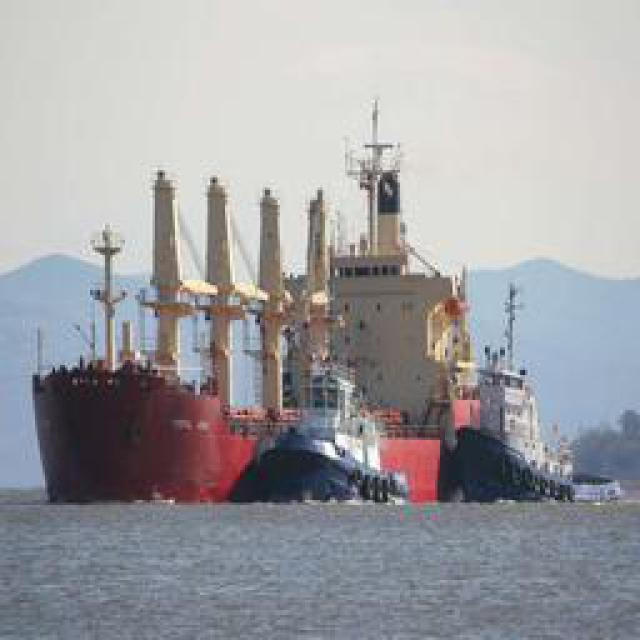Ship: (25, 92, 533, 514), (436, 342, 632, 511), (236, 352, 412, 511)
